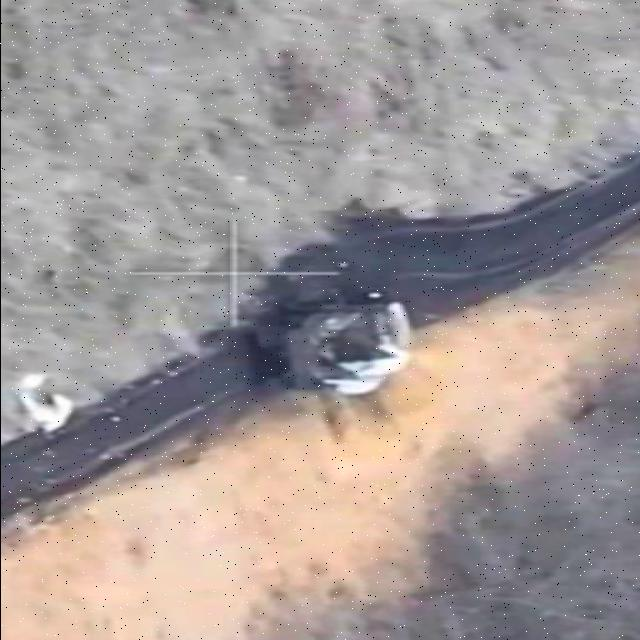TRUCK: (252, 288, 416, 396)
